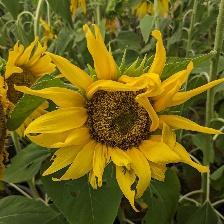sunflower: (13, 22, 224, 215)
